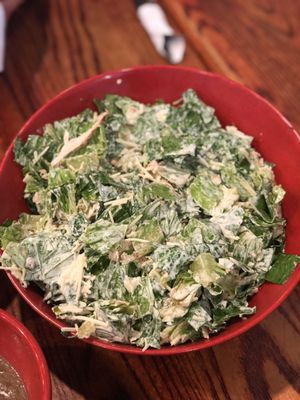sushi: (4, 61, 300, 354), (0, 308, 53, 400)
